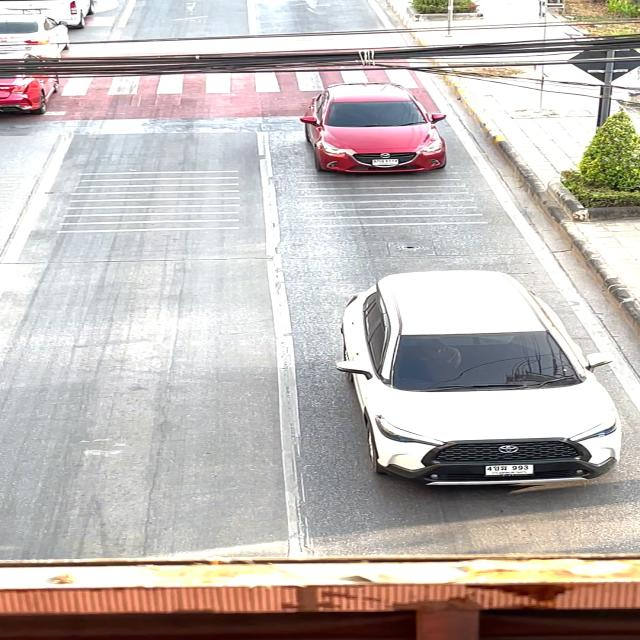car: (318, 258, 639, 496), (294, 72, 454, 182)
